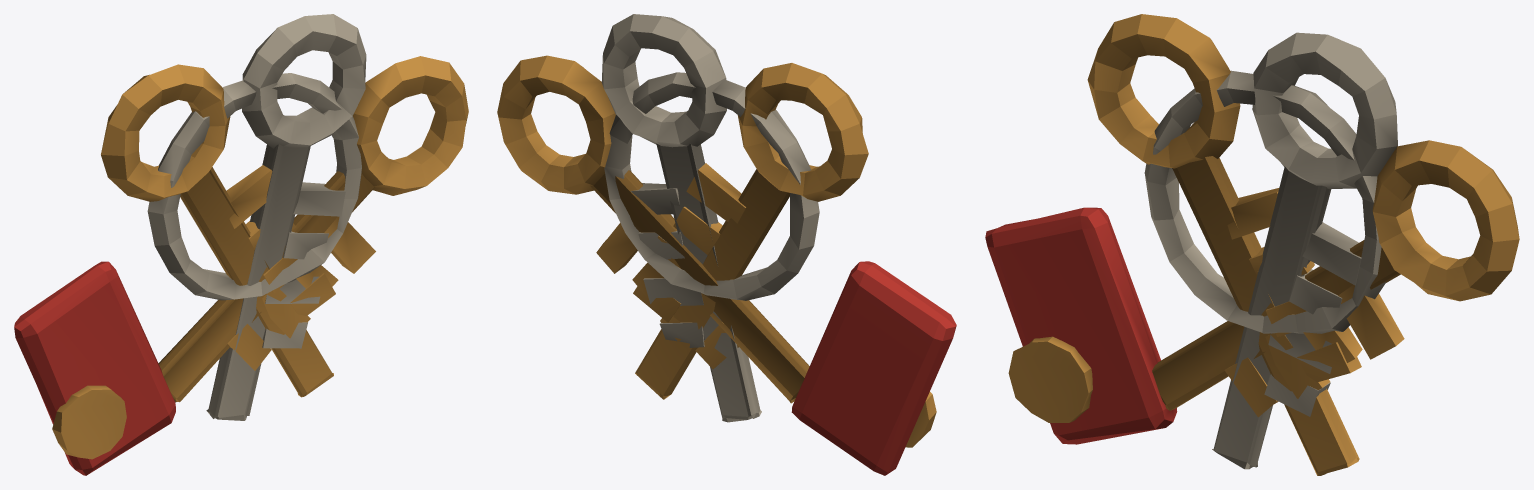
The model's file is find_keys.glb.
3 renders of one model, left to right at view 1: azimuth 30°, elevation 25°; view 2: azimuth 150°, elevation 25°; view 3: azimuth 330°, elevation 25°, orthographic. The views are drawn at different scales.
Parts seen in each view (by area): view 1: Keys; view 2: Keys; view 3: Keys.
Boxes of the visible parts, <box> form: Keys: <box>14,14,468,475</box>; Keys: <box>497,14,956,475</box>; Keys: <box>985,14,1519,475</box>.
Bounding box in the file's own units: 0.3354 × 0.2837 × 0.0314.
